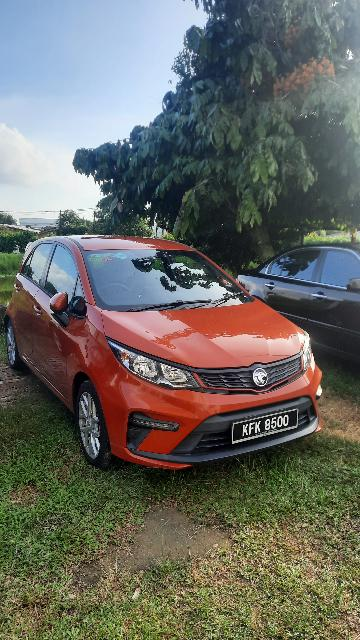License_Plate: (222, 405, 311, 450)
car: (12, 226, 340, 483)
